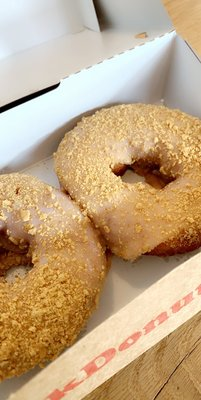salad: (53, 103, 201, 263), (0, 172, 109, 383)
